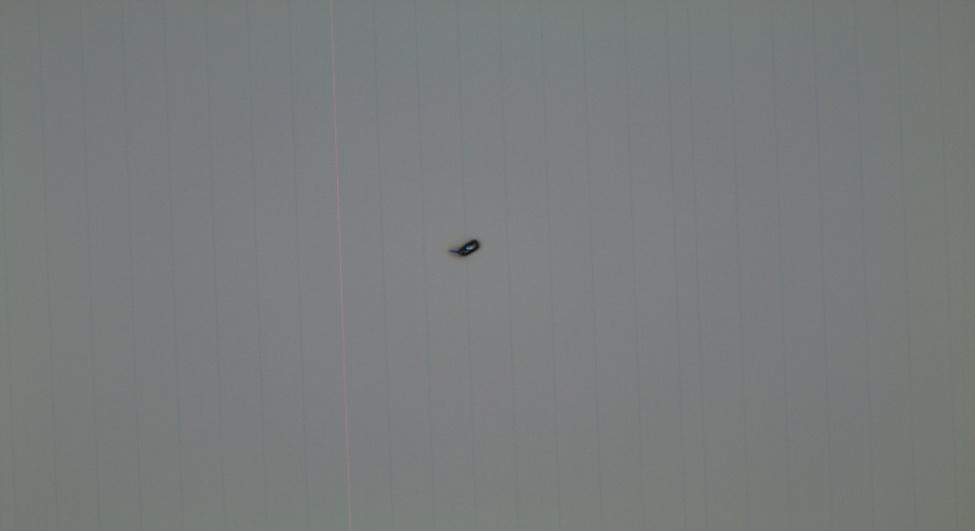PIQ PARTICLE: (442, 231, 490, 279)
